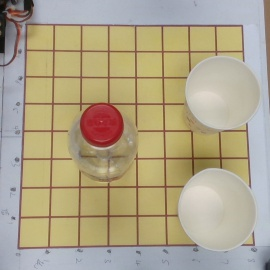bottle: (62, 102, 140, 184)
cup: (166, 55, 261, 137), (165, 168, 258, 250)
